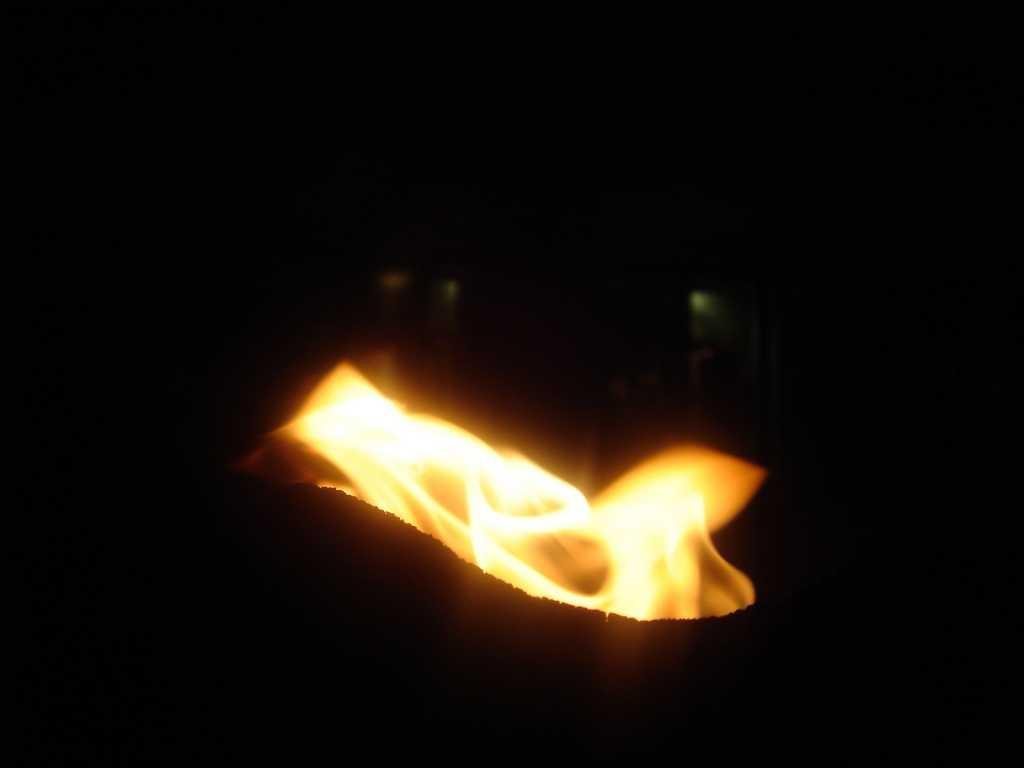fire: (304, 364, 784, 637)
